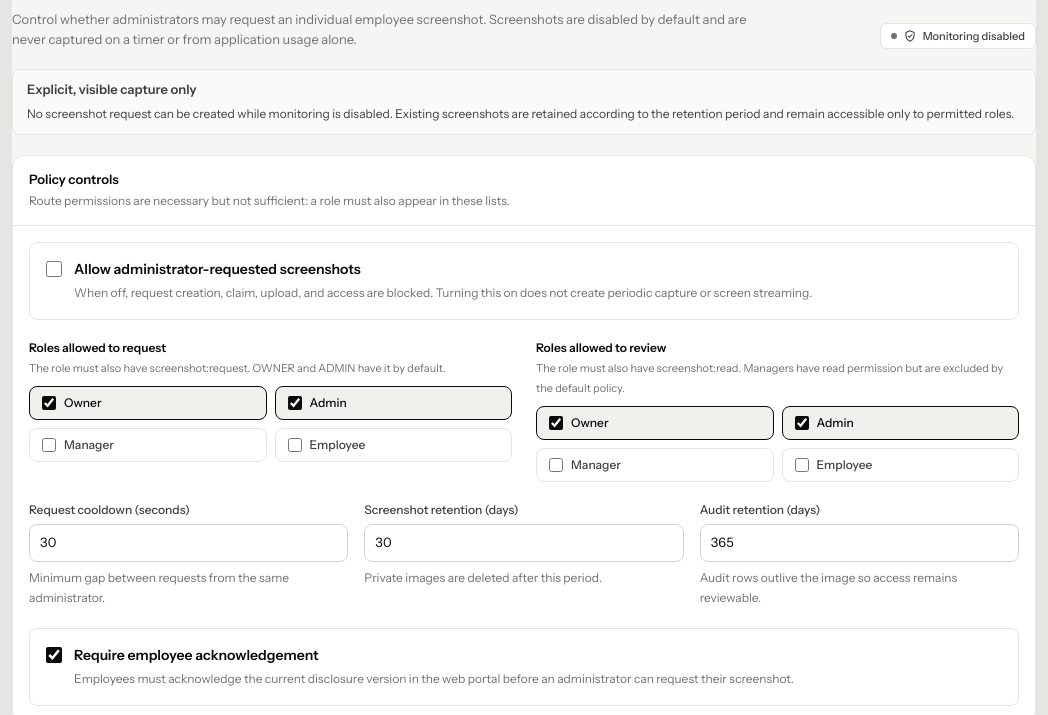
Test: MonitoringSettingsView › blocks saving when a requesting role cannot also review
The width and height of the screenshot is (1048, 715).
Step 1. Click the checkbox labelled "Manager" below "Roles allowed to request" → (49, 445), box [42,438,56,452]
(page scrolled)
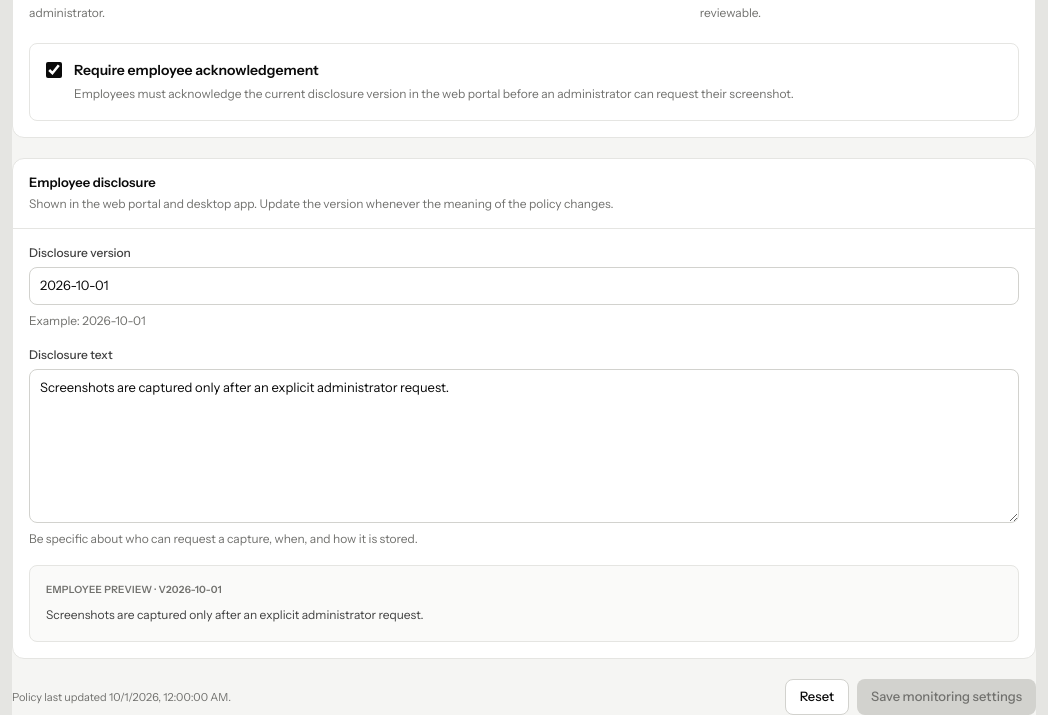
Check: the button "Save monitoring settings" is disabled, box [857,679,1036,714]
